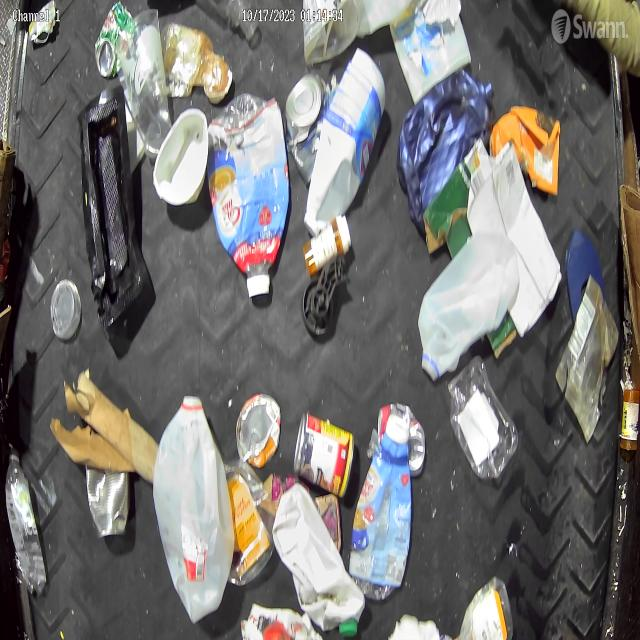can: (294, 412, 356, 500), (286, 72, 330, 184), (377, 402, 425, 477), (238, 395, 283, 470), (94, 3, 134, 80), (86, 469, 128, 539)
milk_jug: (153, 396, 237, 625), (272, 475, 365, 638), (418, 235, 516, 381)
non_white_jug: (305, 47, 385, 236), (397, 70, 492, 221)
